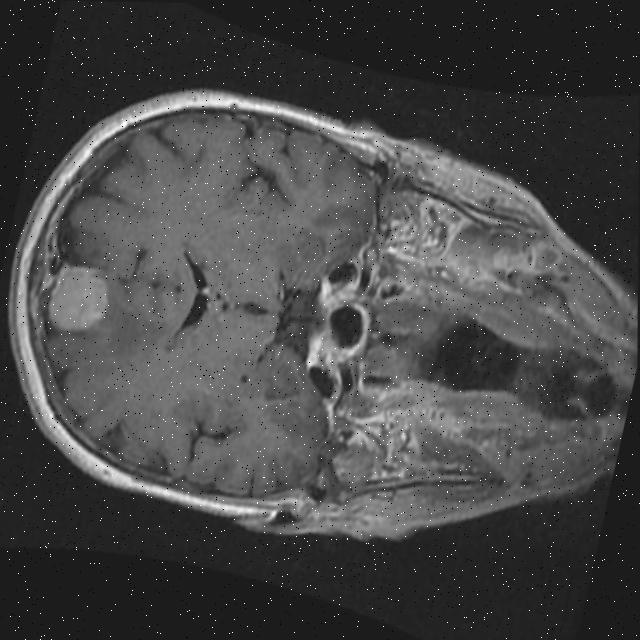Meningioma: (44, 257, 116, 338)
